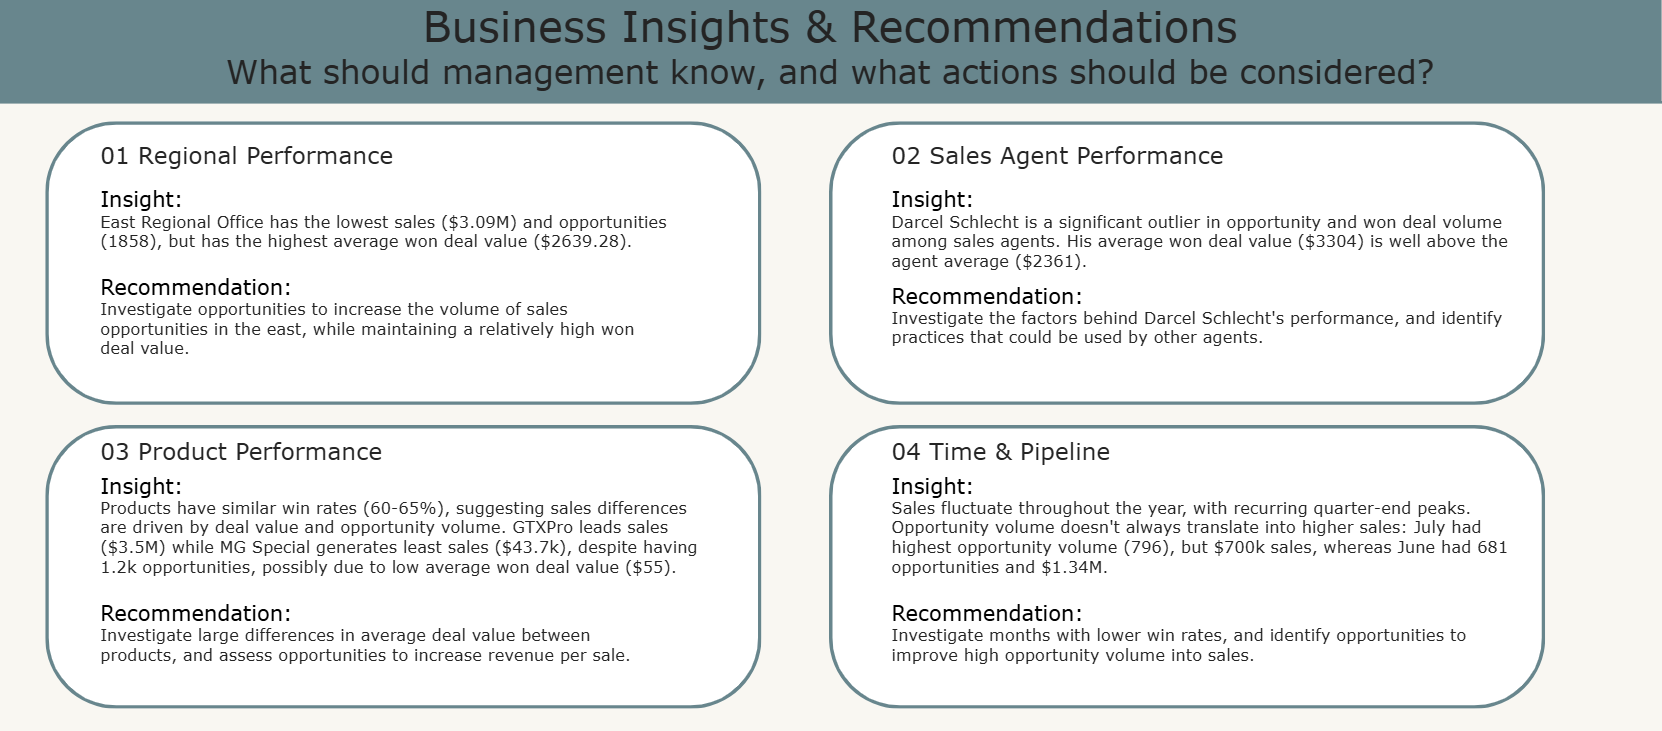

The dashboard page shown, as its layout file describes it:
{"tool":"powerbi","page":{"name":"Business Insights & Recommendations","canvas":[1920,1080],"ordinal":5},"visuals":[{"type":"textbox","box":[10,0,1910,118.6],"z":0},{"type":"shape","box":[64.3,138.6,818.6,324.3],"z":1000},{"type":"shape","box":[960,485.7,818.6,324.3],"z":2000},{"type":"shape","box":[64.3,485.7,818.6,324.3],"z":3000},{"type":"shape","box":[960,138.6,818.6,324.3],"z":4000},{"type":"textbox","box":[127.1,212.9,677.1,88.6],"z":5000},{"type":"textbox","box":[127.1,160,415.7,52.9],"z":6000},{"type":"textbox","box":[127.1,312.9,652.9,135.7],"z":7000},{"type":"textbox","box":[1031.4,160,772.9,37.1],"z":8000},{"type":"textbox","box":[1031.4,212.9,735.7,100],"z":9000},{"type":"textbox","box":[1031.4,322.9,735.7,110],"z":10000},{"type":"textbox","box":[127.1,498.6,475.7,41.4],"z":11000},{"type":"textbox","box":[127.1,540,687.1,145.7],"z":12000},{"type":"textbox","box":[127.1,685.7,652.9,104.3],"z":13000},{"type":"textbox","box":[1031.4,498.6,440,41.4],"z":14000},{"type":"textbox","box":[1031.4,540,735.7,145.7],"z":15000},{"type":"textbox","box":[1031.4,685.7,718.6,104.3],"z":16000}]}

Visuals, with their boxes on the page's 1920x1080 design canvas (x1, y1, x2, y2). These are canvas units, not pixel positions in the 1662x731 screenshot, which may show the page scaled, cropped or inside an application window:
textbox: <bbox>10, 0, 1920, 119</bbox>
shape: <bbox>64, 139, 883, 463</bbox>
shape: <bbox>960, 486, 1779, 810</bbox>
shape: <bbox>64, 486, 883, 810</bbox>
shape: <bbox>960, 139, 1779, 463</bbox>
textbox: <bbox>127, 213, 804, 302</bbox>
textbox: <bbox>127, 160, 543, 213</bbox>
textbox: <bbox>127, 313, 780, 449</bbox>
textbox: <bbox>1031, 160, 1804, 197</bbox>
textbox: <bbox>1031, 213, 1767, 313</bbox>
textbox: <bbox>1031, 323, 1767, 433</bbox>
textbox: <bbox>127, 499, 603, 540</bbox>
textbox: <bbox>127, 540, 814, 686</bbox>
textbox: <bbox>127, 686, 780, 790</bbox>
textbox: <bbox>1031, 499, 1471, 540</bbox>
textbox: <bbox>1031, 540, 1767, 686</bbox>
textbox: <bbox>1031, 686, 1750, 790</bbox>
